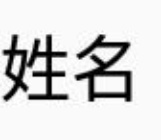TextView: (1, 1, 160, 139)
